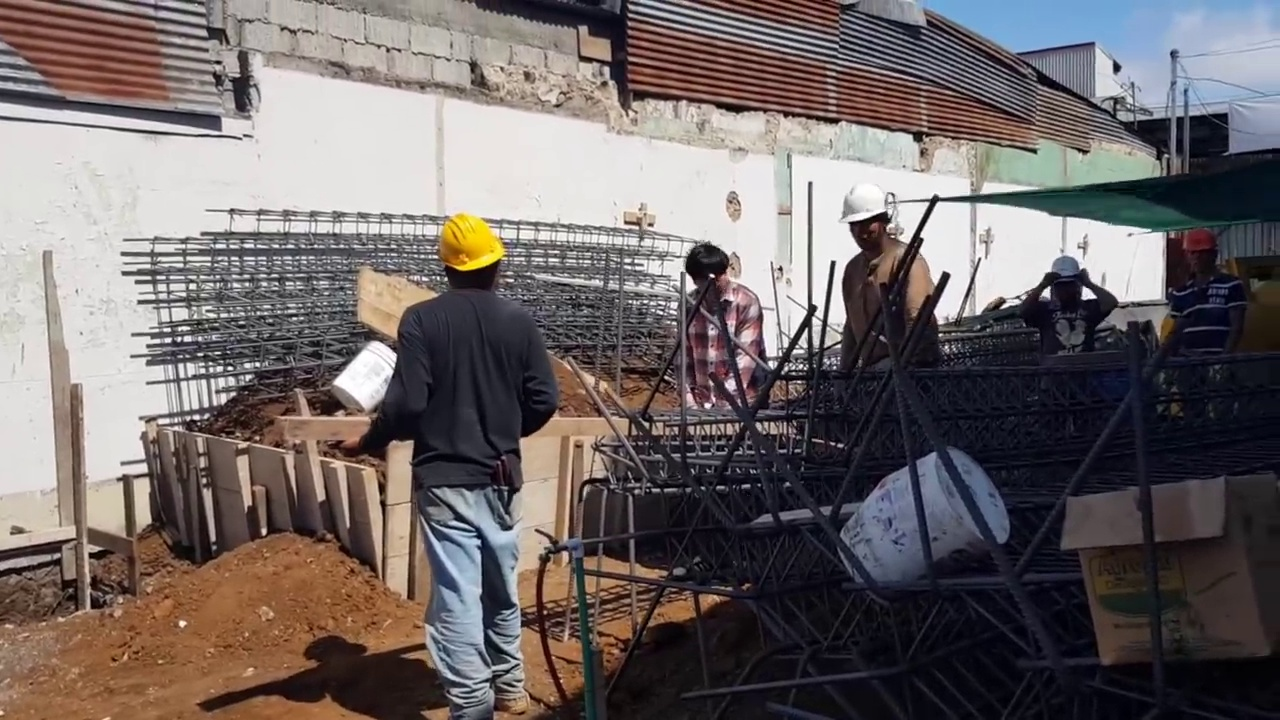helmet: (436, 218, 508, 274), (841, 185, 898, 226), (1181, 229, 1217, 255), (1050, 259, 1082, 279)
helmet-off: (681, 243, 730, 304)
helmet-on: (434, 209, 507, 302), (843, 187, 908, 261), (1182, 231, 1230, 276), (1043, 260, 1094, 300)
person: (321, 208, 561, 720), (829, 185, 948, 372), (677, 240, 772, 414), (1157, 233, 1246, 389), (1029, 260, 1118, 357)
